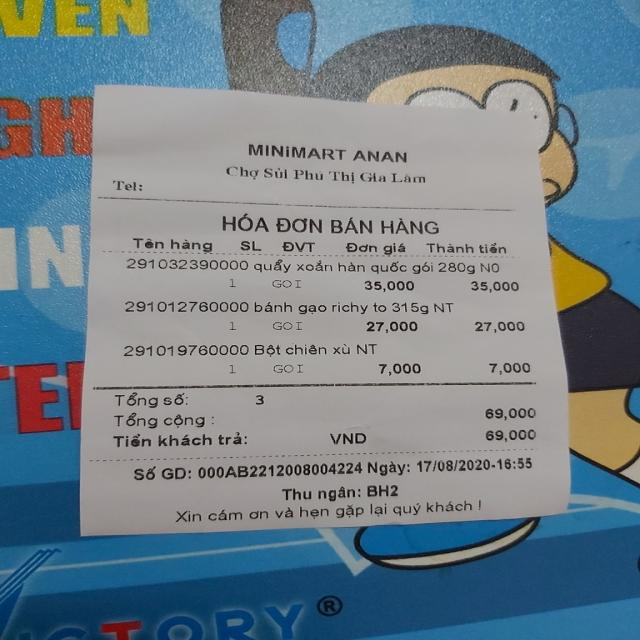Date: (416, 458, 494, 476)
Store_Name: (244, 140, 414, 168)
amount_number: (478, 405, 543, 421)
label_total: (112, 412, 208, 430)
